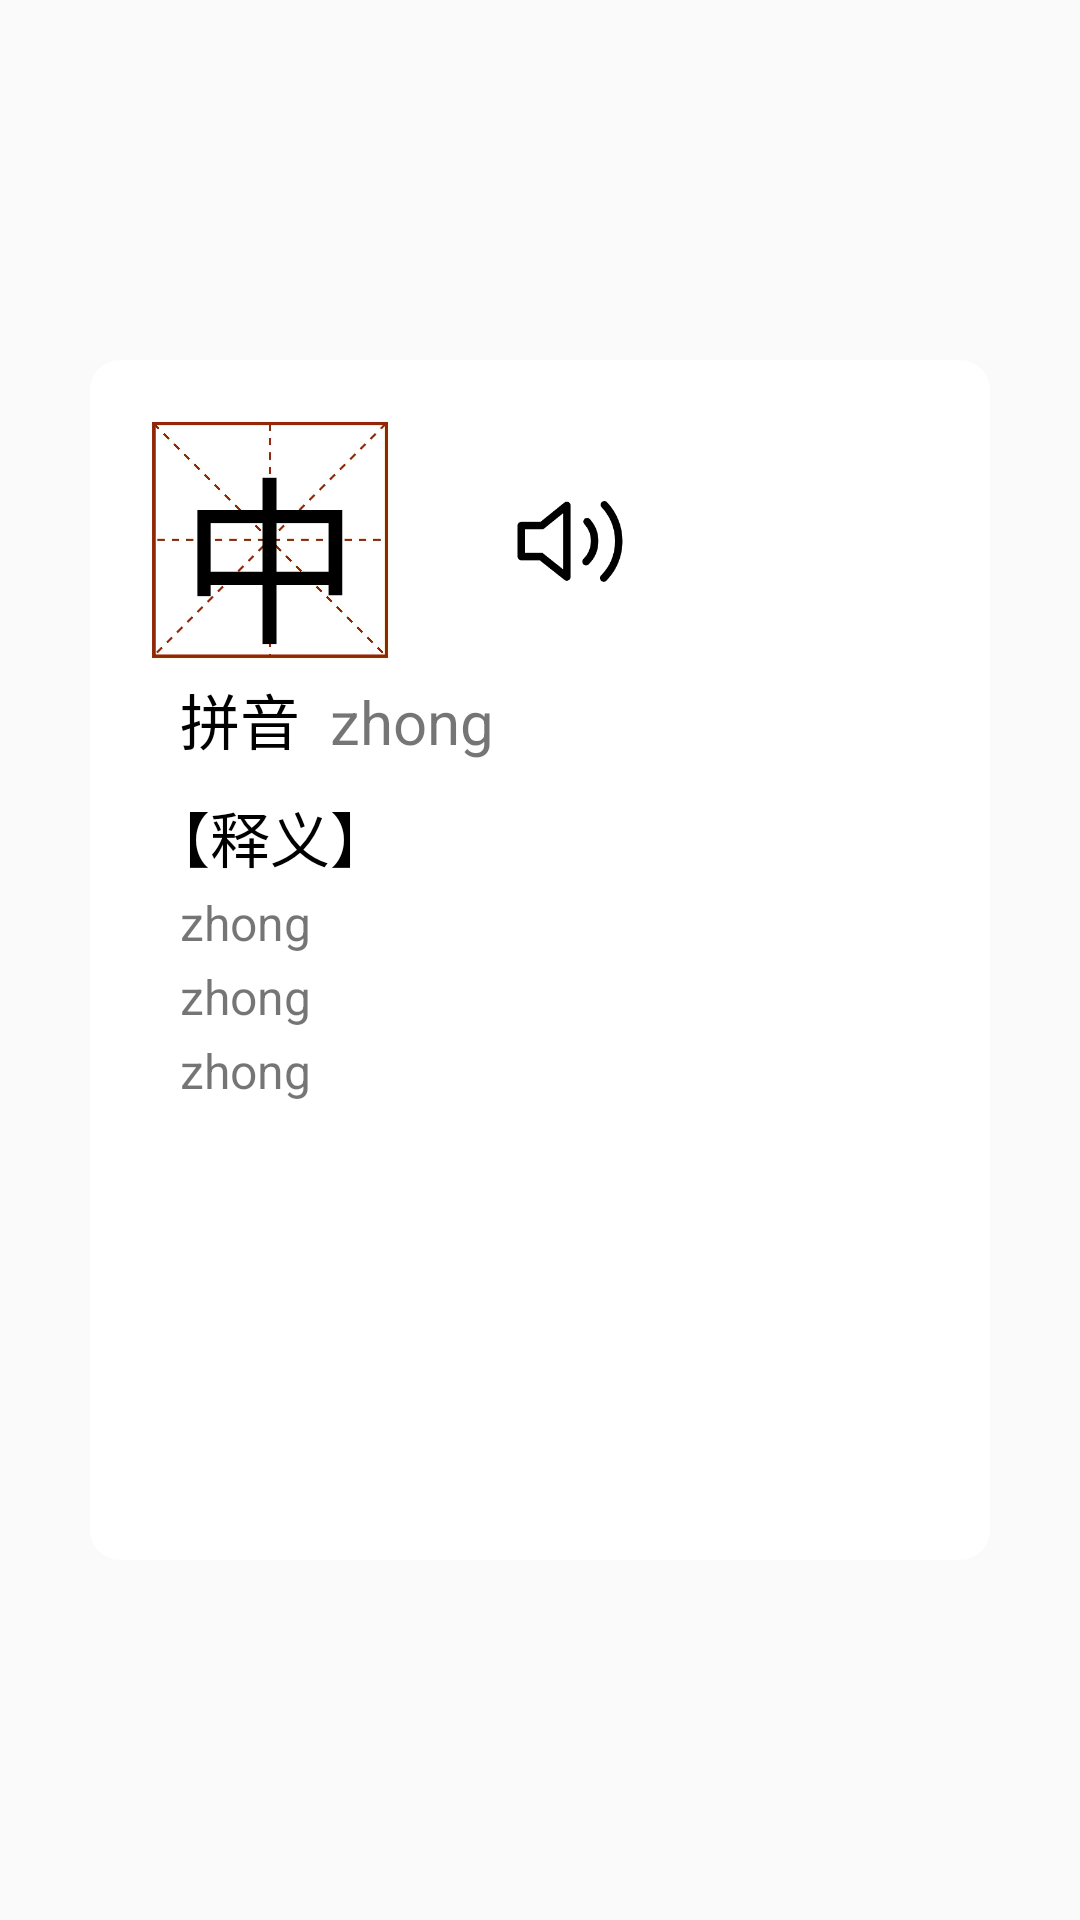

Icon click points for this 1080px×1920px phone screenshot, format [x,y]:
yuyin: [570,541]
